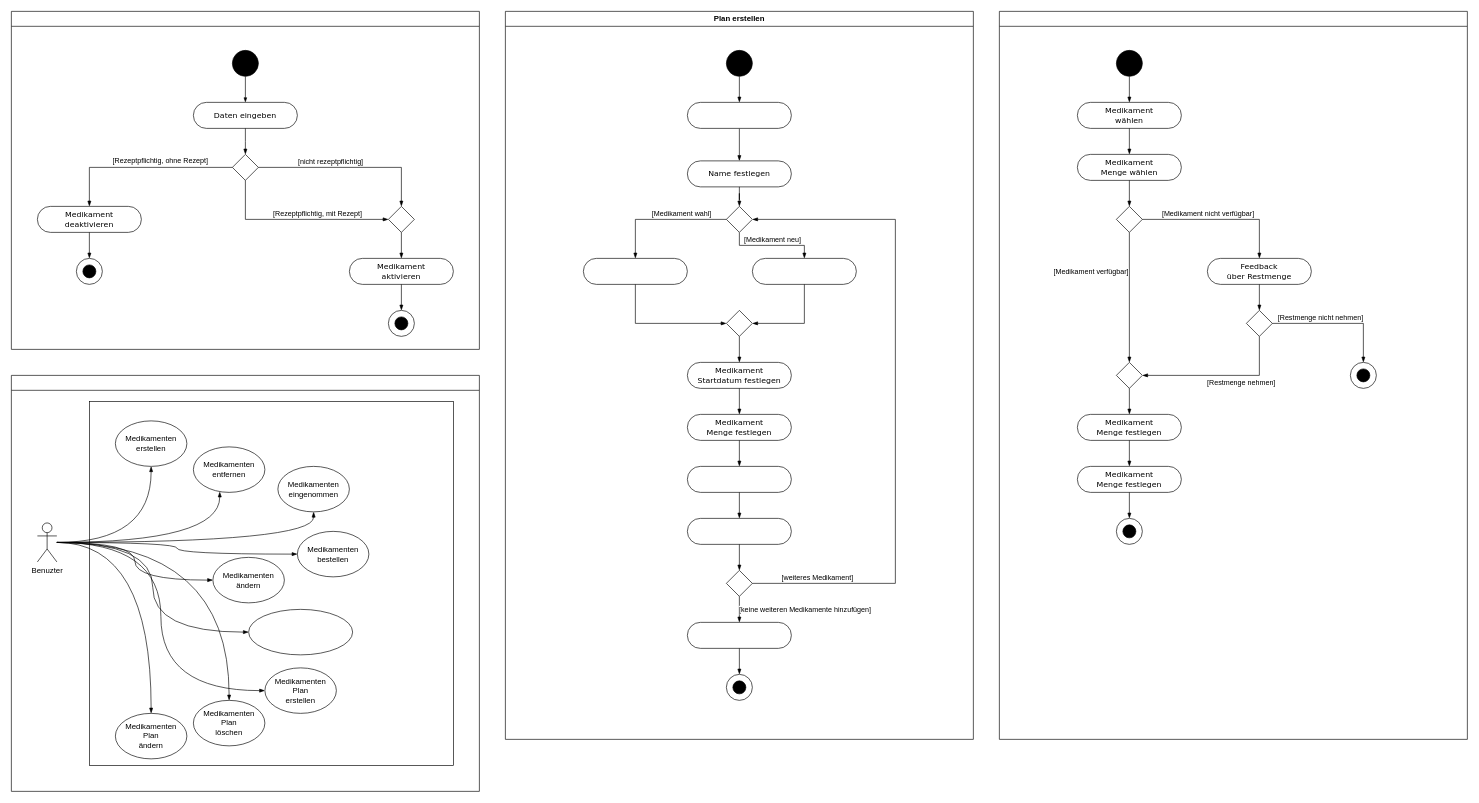
The diagram is 1479 pixels wide and 803 high, and some of its shapes have lost their labels. Each missing label, with the box of its shape:
Aktivitätsdiagramm: (11, 375, 479, 791)
Medikament auswählen: (583, 258, 687, 284)
Medikament bestellen: (999, 11, 1467, 739)
Medikament erstellen: (752, 258, 856, 284)
Medikament hinzufügen: (11, 11, 479, 349)
Medikament Intervall festlegen: (687, 518, 791, 544)
Medikament Tageszeit festlegen: (687, 466, 791, 492)
Medikamenten Plan aktivieren/deaktivieren: (248, 609, 353, 655)
Plan aktivieren: (687, 622, 791, 648)
Plan anlegen: (687, 102, 791, 128)
